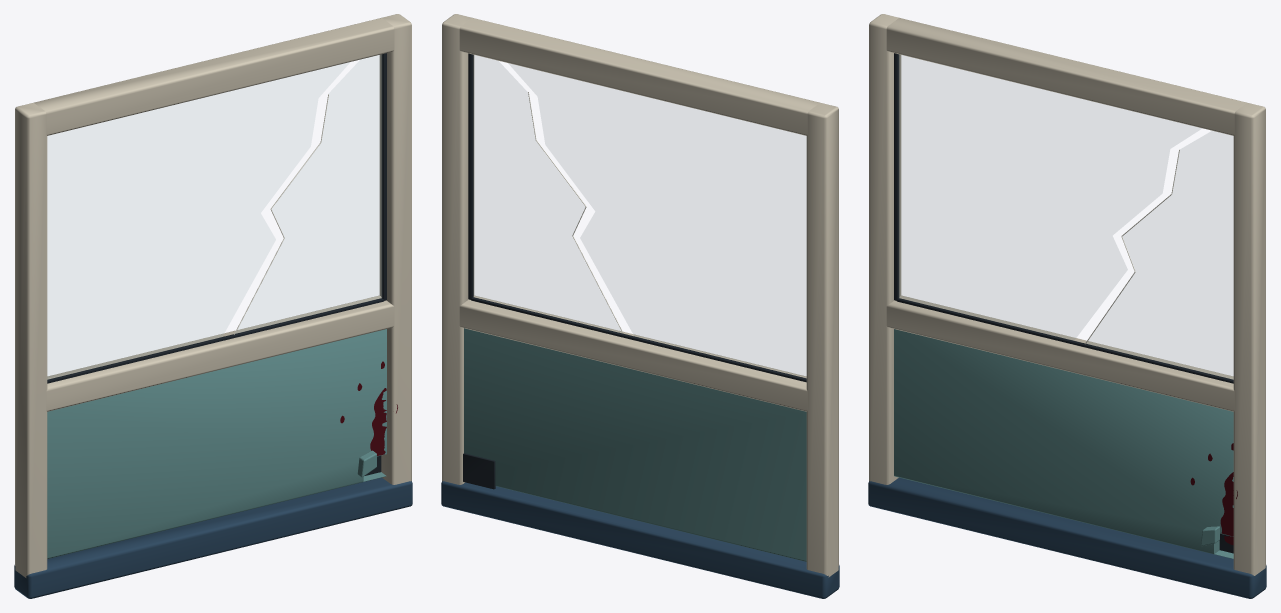
File: isolation_windowed_partition.glb
3 renders of one model, left to right at view 1: azimuth 30°, elevation 25°; view 2: azimuth 150°, elevation 25°; view 3: azimuth 330°, elevation 25°, orthographic.
Visible parts, largest first — view 1: Static_Shell_Mesh; view 2: Static_Shell_Mesh; view 3: Static_Shell_Mesh.
Part boxes in pixels (<box>): Static_Shell_Mesh: <box>14,14,412,598</box>; Static_Shell_Mesh: <box>441,14,839,598</box>; Static_Shell_Mesh: <box>868,14,1266,598</box>.
Bounding box in the file's own units: 2 × 2.4 × 0.145.
